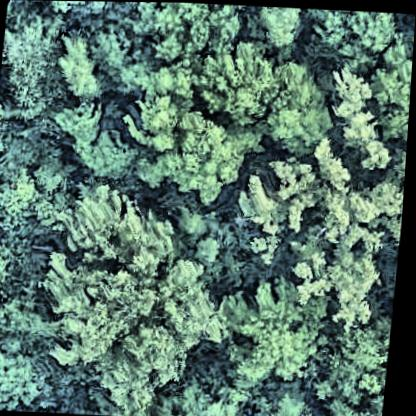tree-top: (36, 187, 233, 413), (133, 47, 281, 207), (239, 147, 408, 253), (281, 223, 394, 331), (221, 284, 330, 385), (314, 72, 404, 170), (297, 6, 404, 79), (310, 318, 396, 408), (263, 55, 339, 155), (135, 2, 245, 67), (195, 40, 282, 120), (0, 13, 69, 113), (366, 30, 415, 151), (50, 23, 107, 103), (0, 351, 57, 410), (80, 127, 137, 186), (250, 5, 313, 56)
